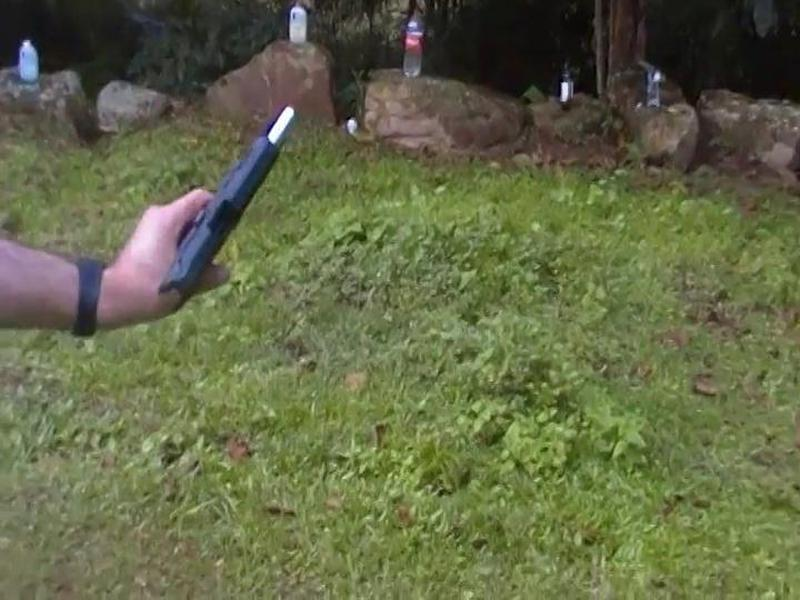Pistola: (150, 100, 303, 300)
